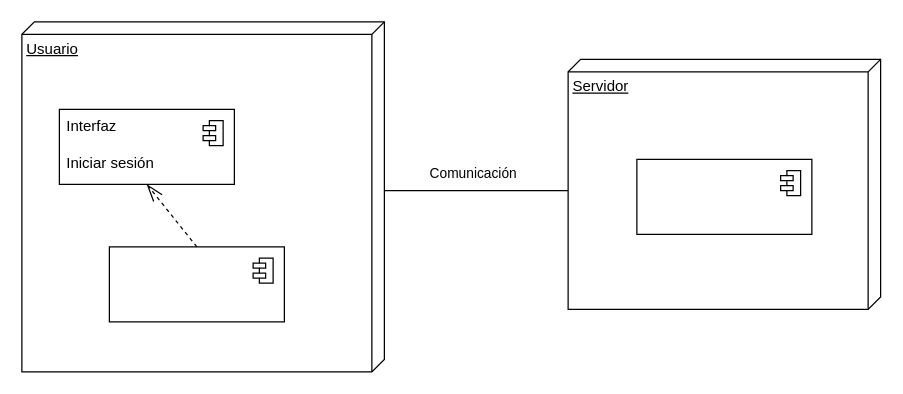
Some shapes in this 903 by 394 pixel diagram are drawn without their labels. Here are the shapes that lost their labels. From the top down, the centre of each, then its label:
At (x=724, y=196): "Componente Base de datos".
At (x=196, y=284): "Componente Perfil de usuario".
